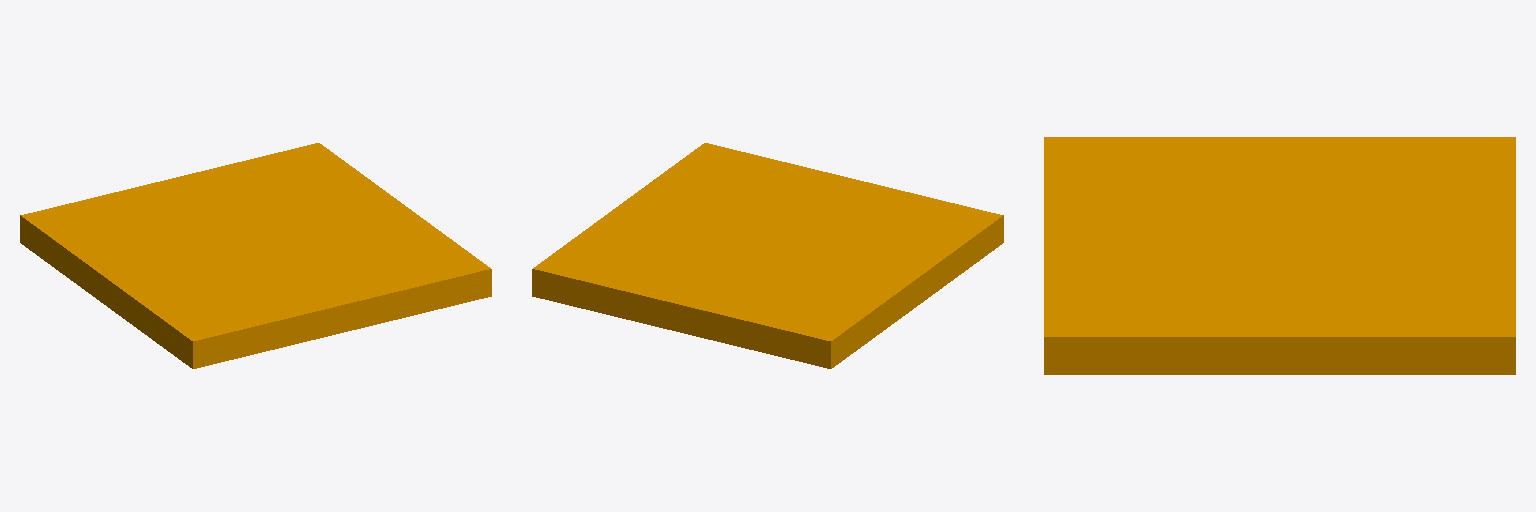
The robot description file, URDF, robot "desk":
<?xml version="1.0"?>
<robot
  name="desk">
  <link name="desk">
    <visual>
      <geometry>
        <box size="0.45 0.45 0.04"/>
      </geometry>
    </visual>
    <collision>
      <geometry>
        <box size="0.45 0.45 0.04"/>
      </geometry>
      <origin xyz="0 0 0"/>
    </collision>
    <inertial>
      <mass value="0.5"/>
      <inertia ixx="0.01" ixy="0.0" ixz="0.0" iyy="0.01" iyz="0.0" izz="0.01"/>
      <origin xyz="0 0 0"/>
    </inertial>
  </link>
</robot>

--- What the picture shows (computed from the rendered views, not written in the file) ---
The picture shows the robot from 3 angles, left to right: view 1: azimuth 30°, elevation 25°; view 2: azimuth 150°, elevation 25°; view 3: azimuth 270°, elevation 25°; orthographic projection.
Model desk with 1 links and 0 joints (none), rooted at desk, posed all joints at 0.
Visible links, largest first — view 1: desk; view 2: desk; view 3: desk.
Link boxes in pixels (box(x1,y1,x2,y2)): desk: box(20, 143, 491, 368); desk: box(532, 143, 1003, 368); desk: box(1044, 137, 1515, 374).
Bounding box of the posed robot: 0.45 × 0.45 × 0.04 m (x, y, z).
Geometry: primitives only (box / cylinder / sphere), no mesh files.